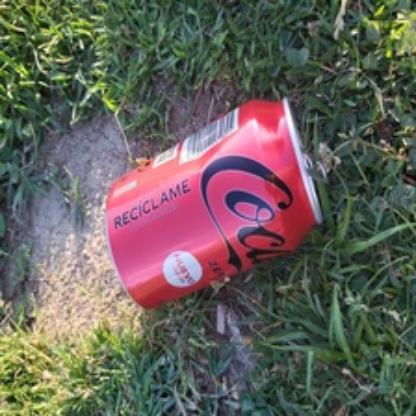Can: (103, 98, 324, 310)
